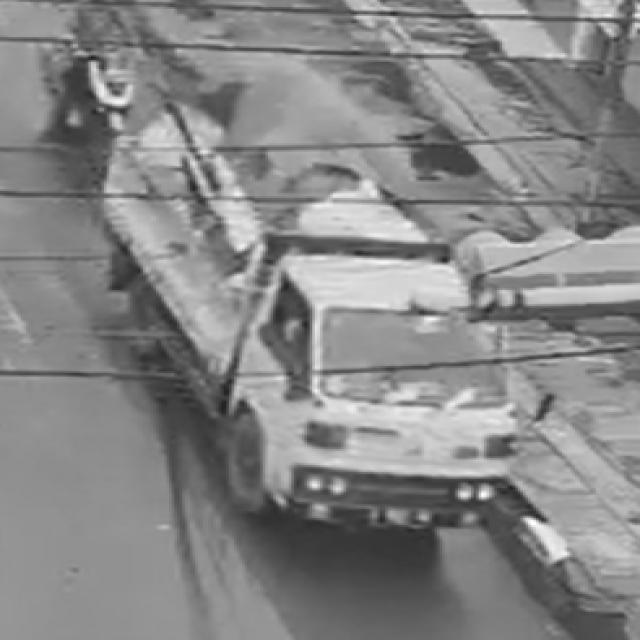Truck: (112, 74, 548, 550)
